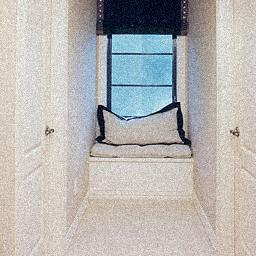Puerta: (15, 7, 58, 252), (226, 7, 252, 255)
